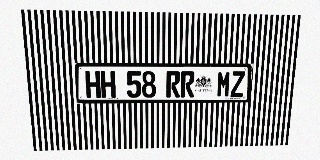5: (127, 71, 141, 98)
8: (142, 71, 156, 98)
H: (85, 71, 101, 98), (100, 71, 116, 98)
M: (216, 71, 231, 97)
R: (180, 71, 195, 97), (166, 71, 180, 97)
Z: (230, 71, 245, 97)
